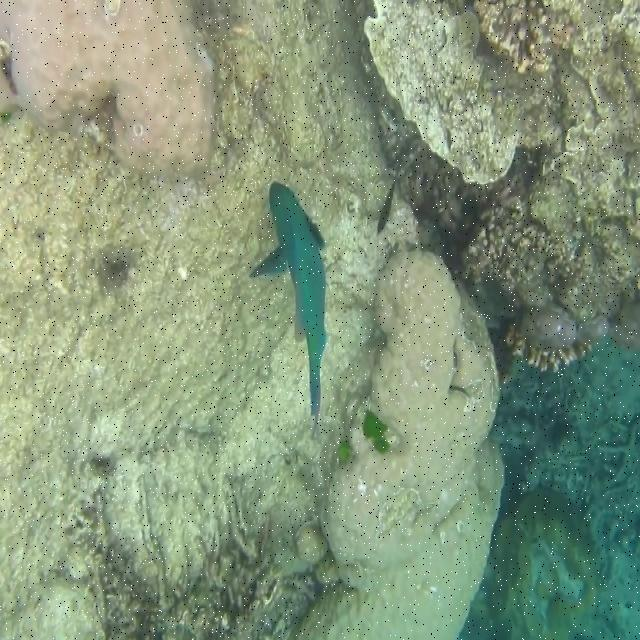fish: (249, 181, 327, 440), (377, 176, 396, 235)
reefs: (354, 2, 639, 369), (283, 250, 505, 639), (0, 0, 218, 174)
